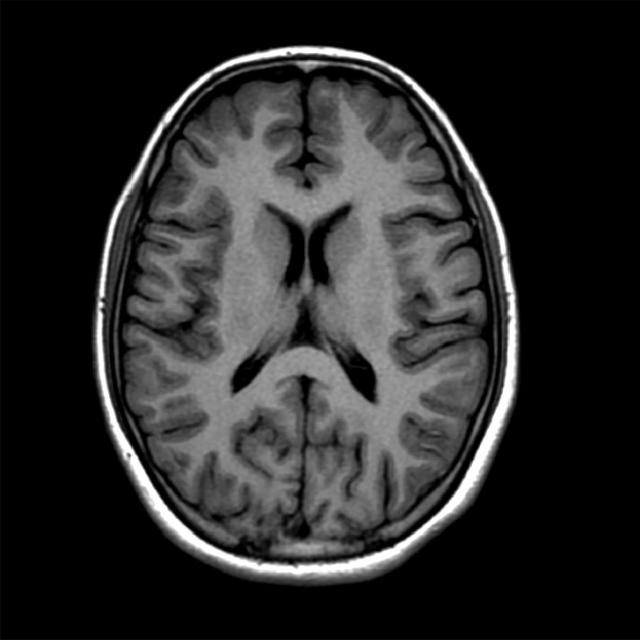notumor: (91, 48, 521, 591)
